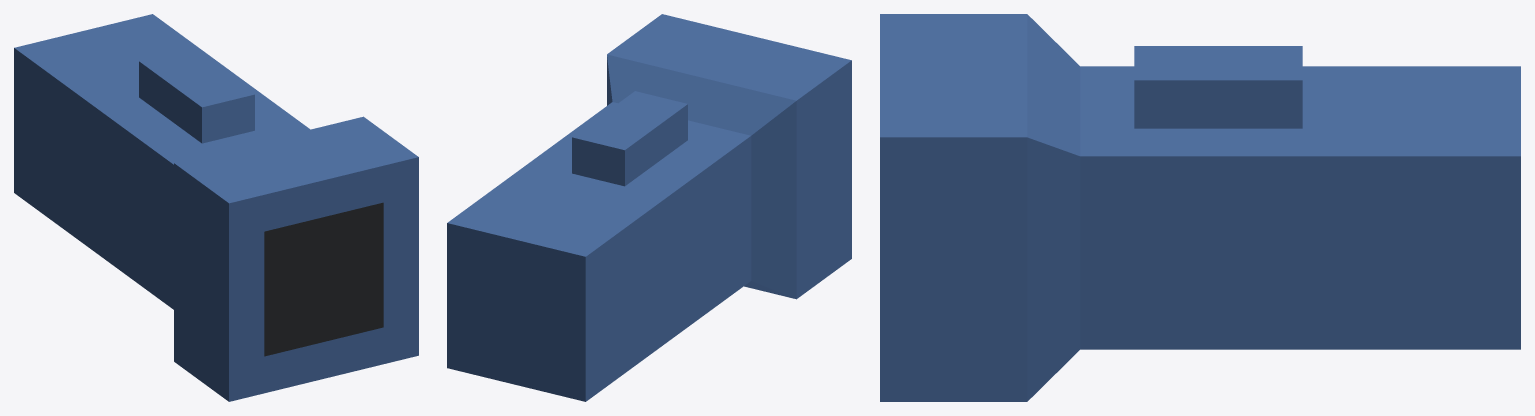
Rendered from AI_Item_Flashlight.fbx.
The picture shows the model from 3 angles, left to right: view 1: azimuth 30°, elevation 25°; view 2: azimuth 150°, elevation 25°; view 3: azimuth 270°, elevation 25°; orthographic projection. The views are drawn at different scales.
Visible parts, largest first — view 1: AI_Item_Flashlight; view 2: AI_Item_Flashlight; view 3: AI_Item_Flashlight.
Boxes of the visible parts, box(x1,y1,x2,y2) form: AI_Item_Flashlight: box(14, 14, 418, 401); AI_Item_Flashlight: box(447, 14, 851, 401); AI_Item_Flashlight: box(880, 14, 1520, 401).
Bounding box in the file's own units: 0.2181 × 0.2285 × 0.4788.
